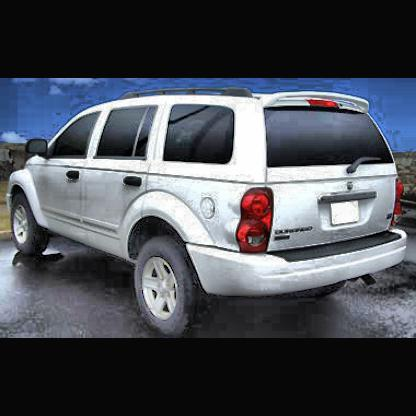Dodge Durango SUV 2007: (9, 87, 411, 334)
